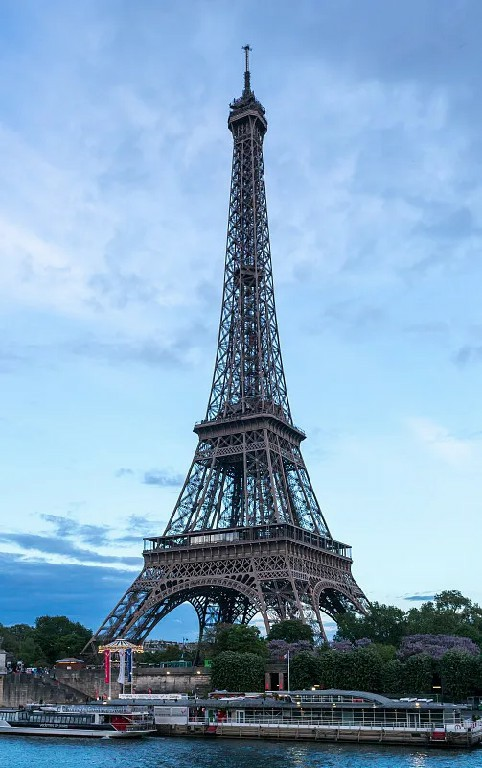Eiffel: (80, 45, 376, 663)
